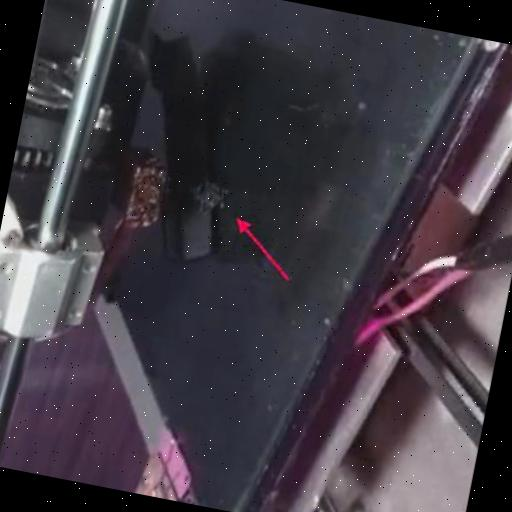spaghetti: (188, 178, 231, 220)
